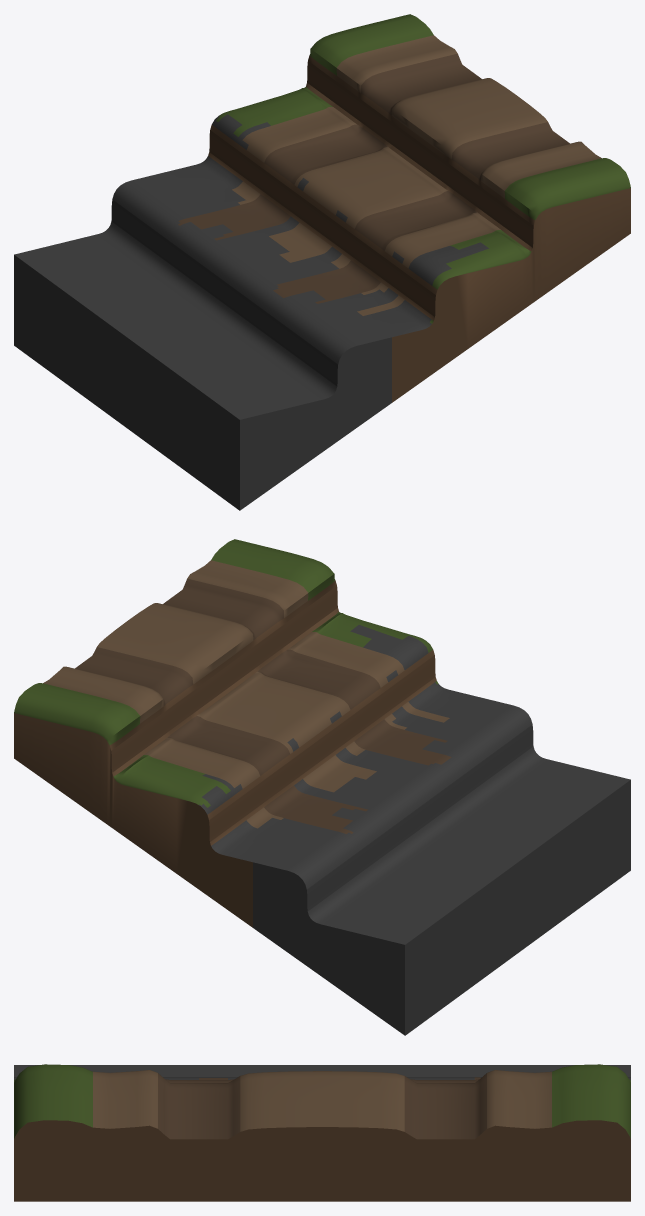
The picture shows the model from 3 angles, top to bottom: view 1: azimuth 30°, elevation 25°; view 2: azimuth 150°, elevation 25°; view 3: azimuth 270°, elevation 25°; orthographic projection. The views are drawn at different scales.
Parts seen in each view (by area): view 1: s1u; view 2: s1u; view 3: s1u.
Boxes of the visible parts, <box> form: s1u: <box>14,14,630,510</box>; s1u: <box>14,539,630,1035</box>; s1u: <box>14,1064,630,1201</box>.
Bounding box in the file's own units: 9 × 5.31 × 9.
